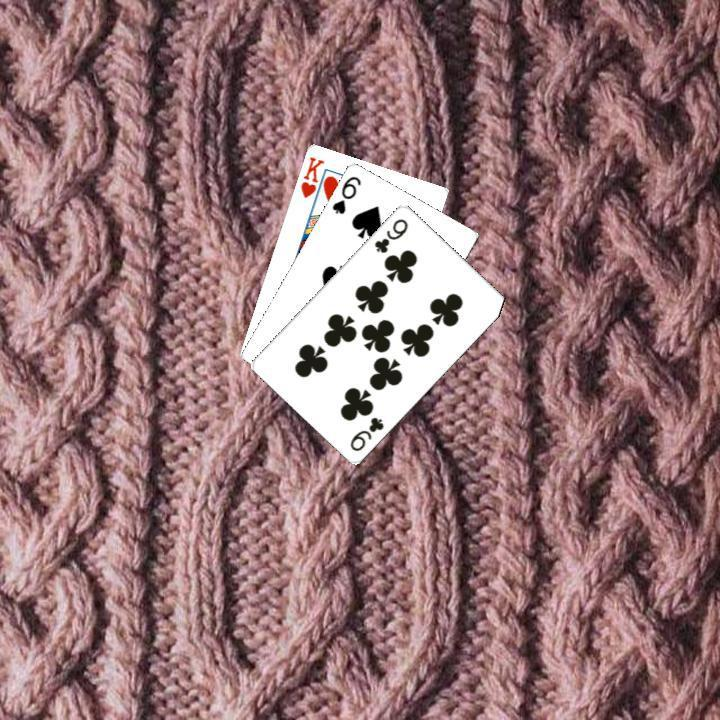6: (328, 171, 363, 216)
9: (370, 213, 410, 255), (346, 412, 386, 453)
K: (296, 152, 326, 200)
